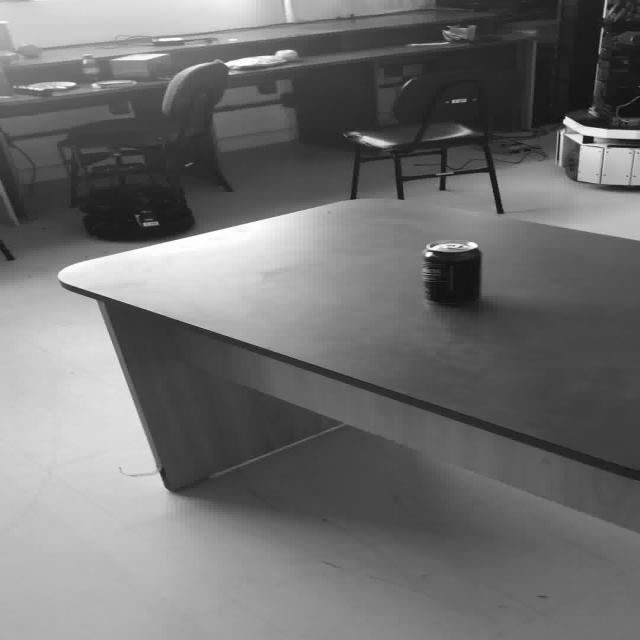tonic: (419, 238, 482, 304)
